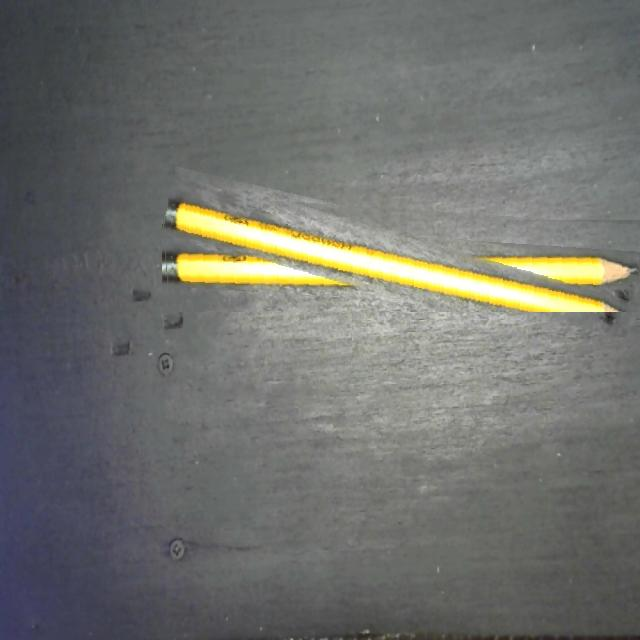biodegradable: (161, 193, 640, 312)
